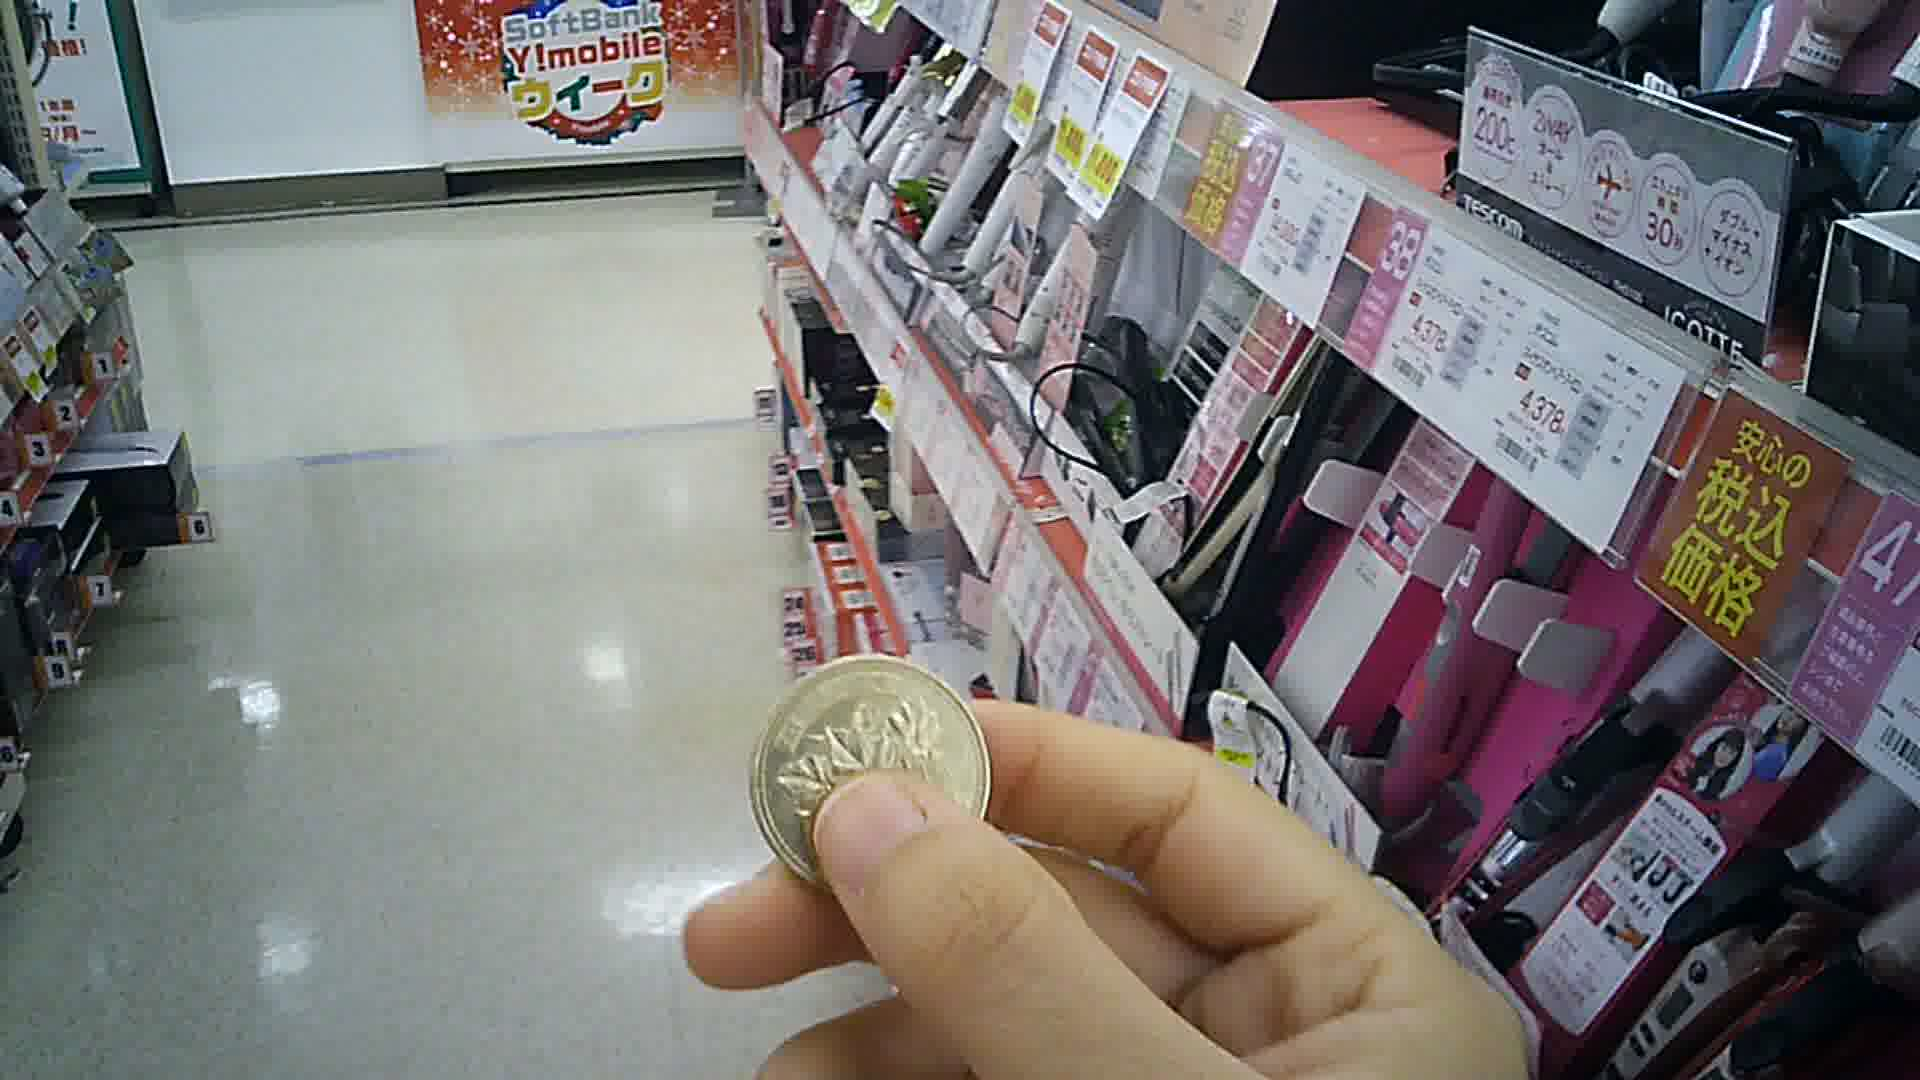500 Yen: (756, 654, 996, 898)
